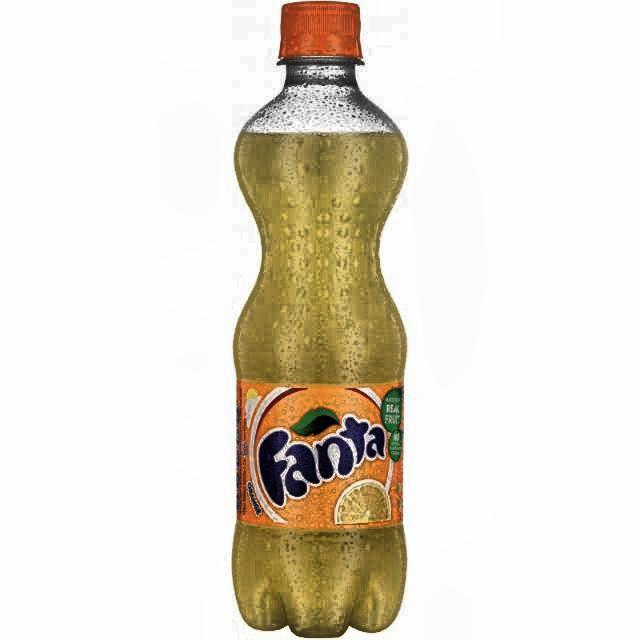plastic: (232, 0, 410, 640)
